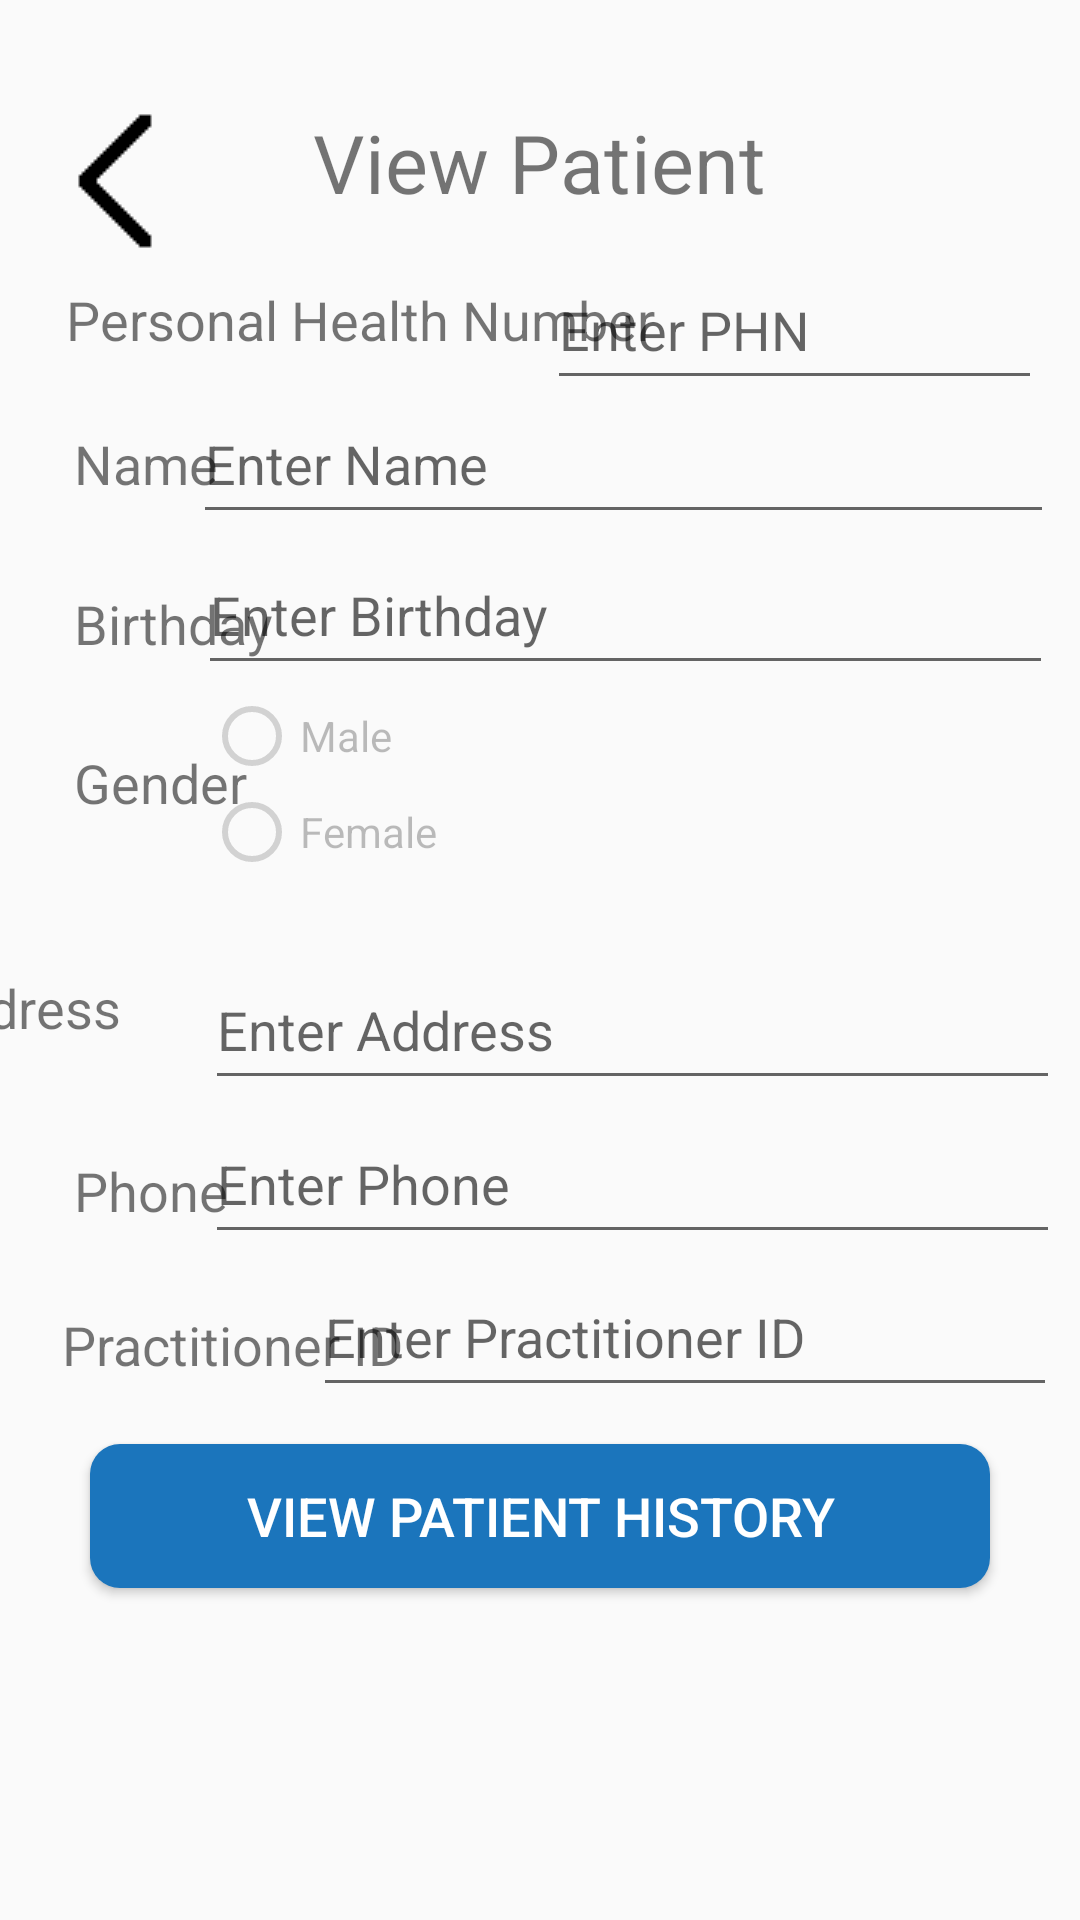

Icons on this 1080w x 1920h Android screen, each with its box as bbox=[x1, y1, x2, y2]:
Back: bbox=[78, 114, 152, 248]
